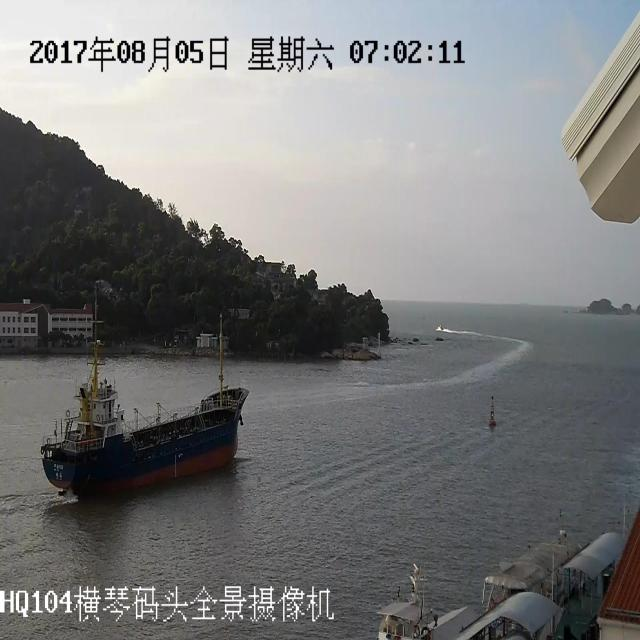buoy: (480, 381, 504, 436)
houseboat: (30, 358, 272, 500)
